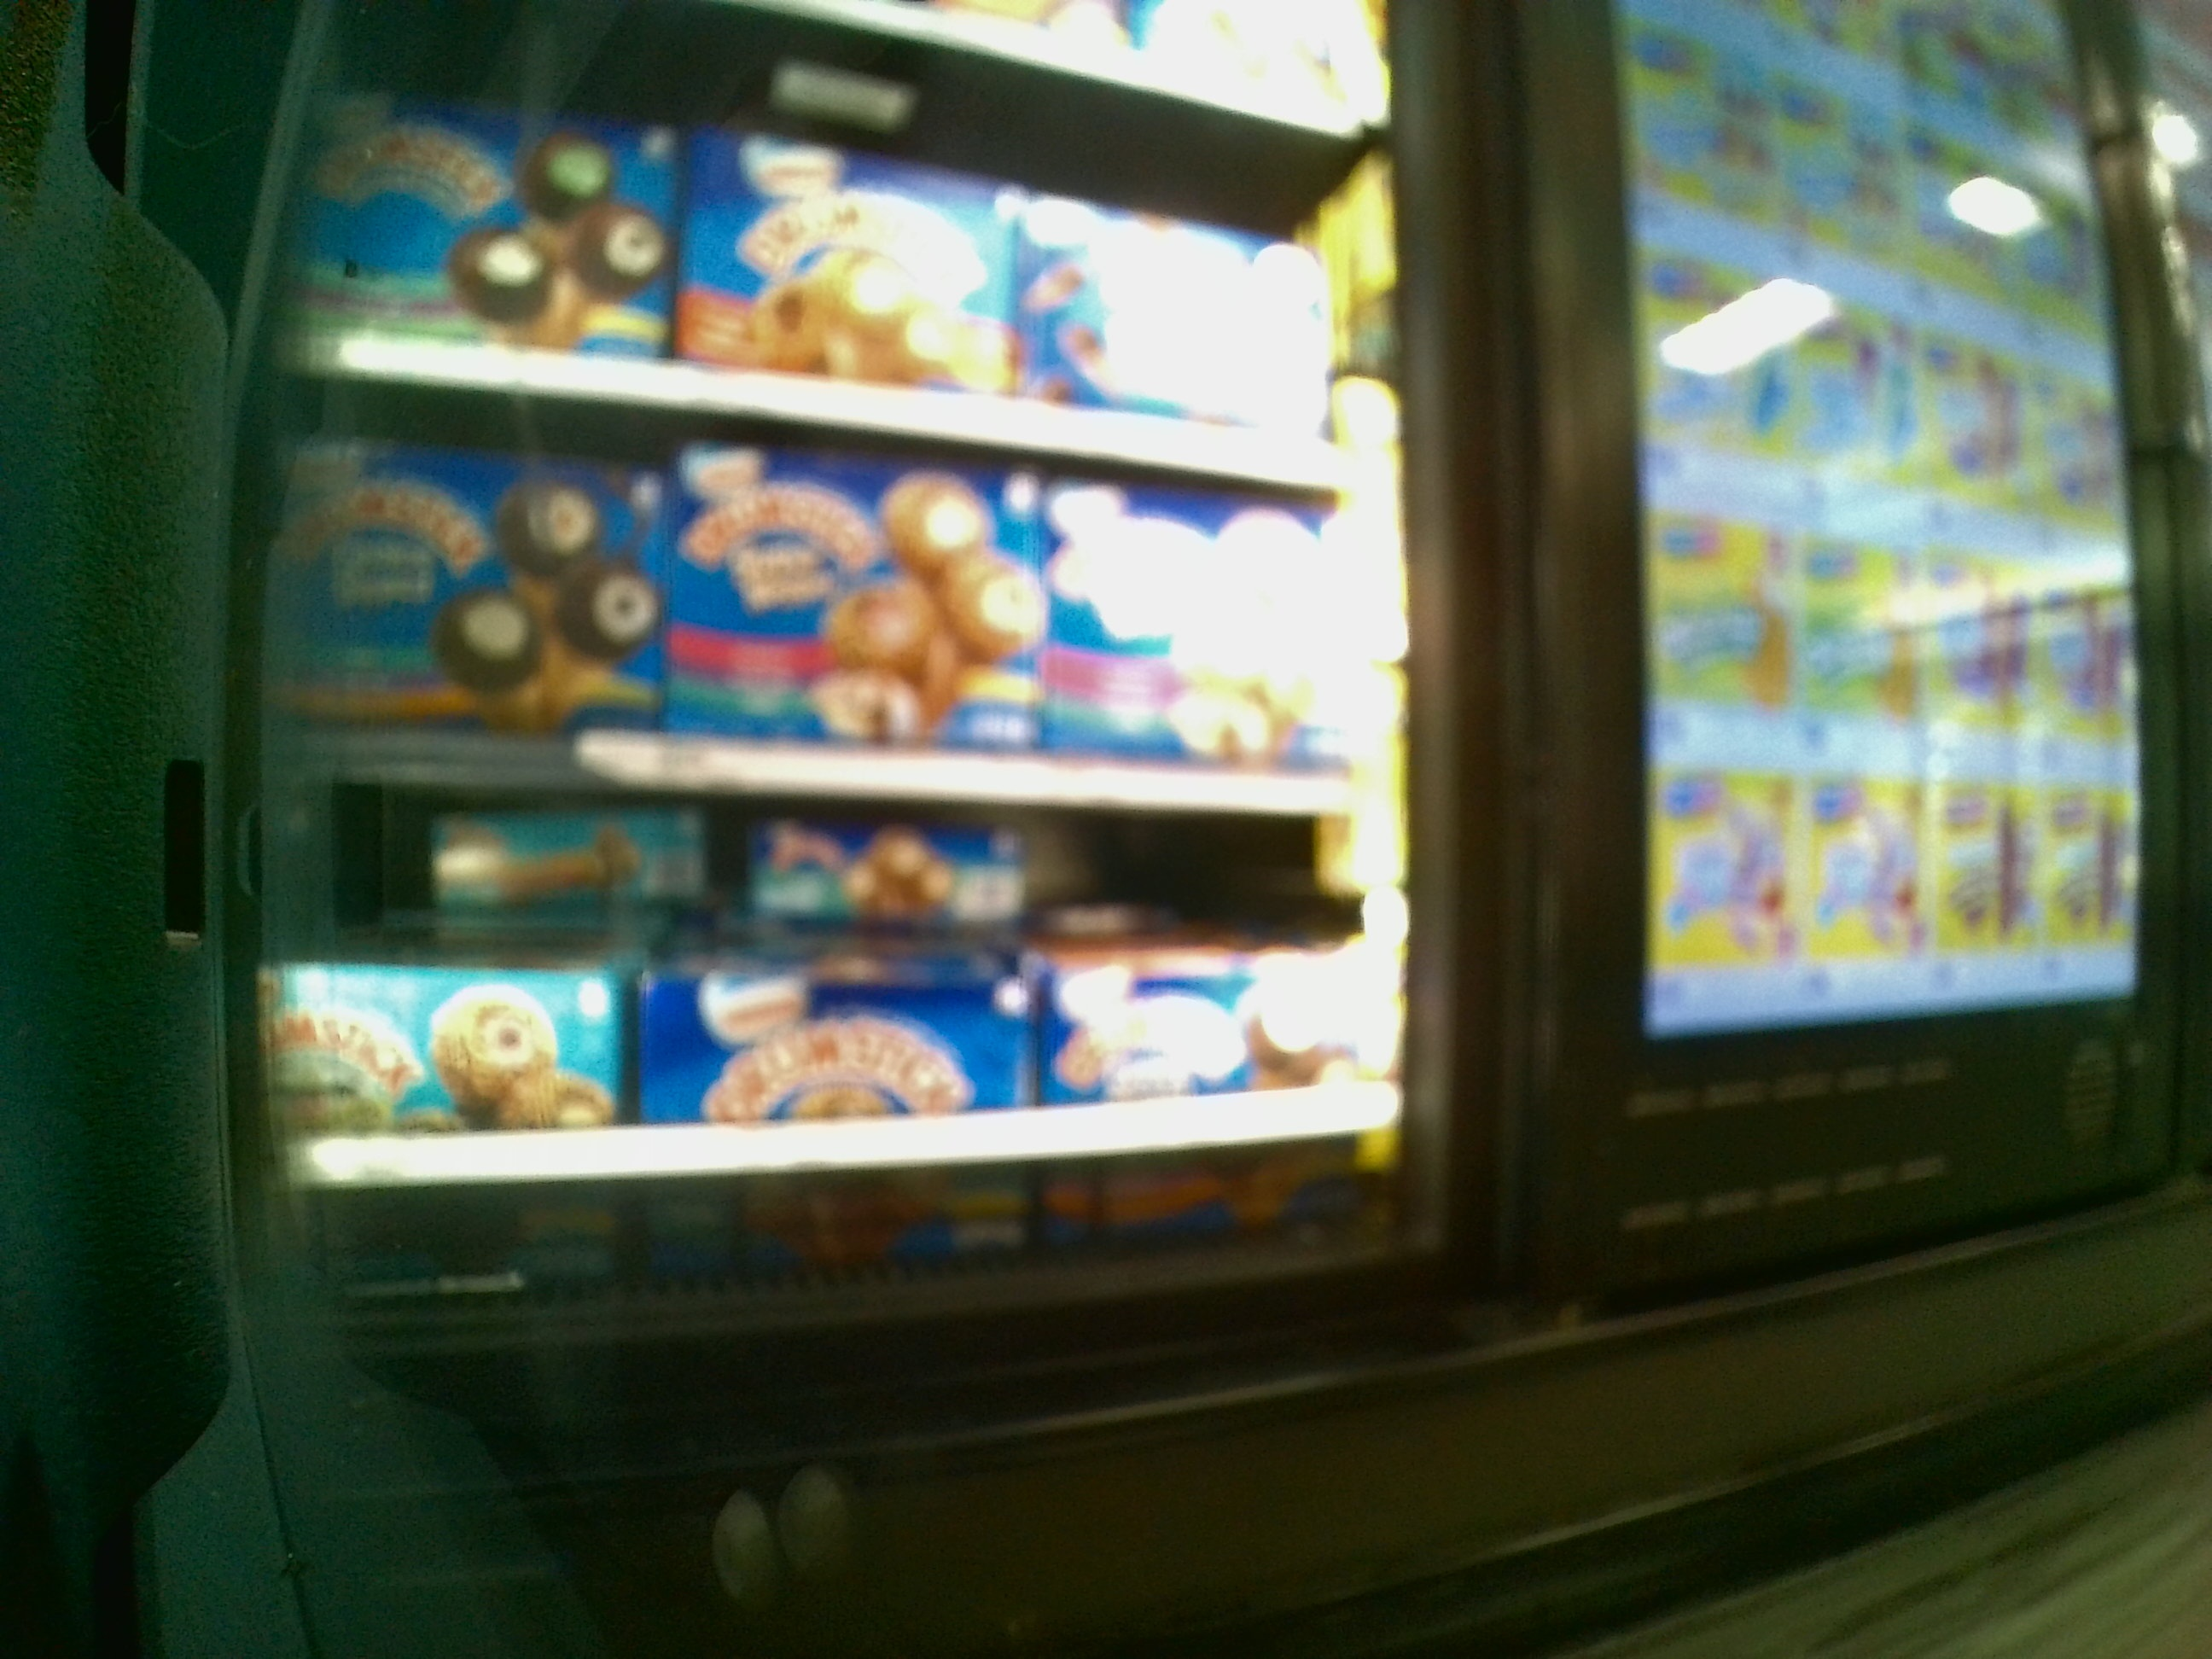shelf: (277, 793, 1395, 1255), (273, 406, 1397, 802)
